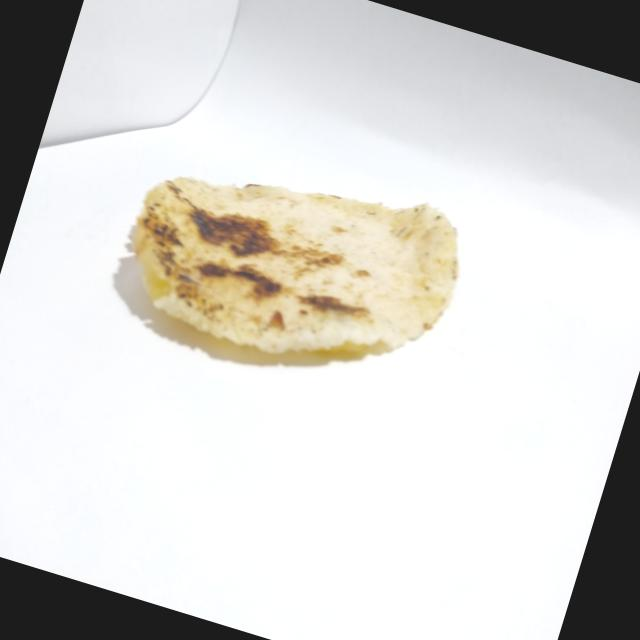Mbeju: (96, 118, 482, 420)
